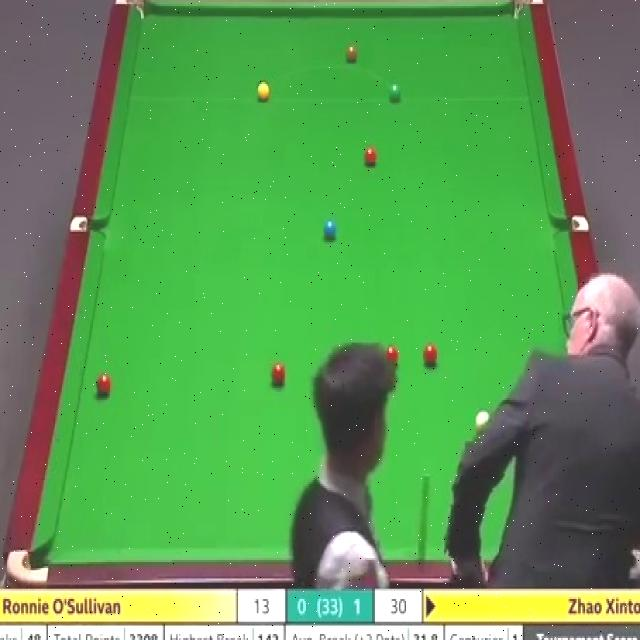blue-ball: (321, 218, 338, 240)
brown-ball: (345, 42, 357, 62)
green-ball: (388, 80, 402, 102)
red-ball: (95, 371, 111, 398), (270, 362, 286, 388), (424, 342, 438, 368), (364, 145, 378, 169), (386, 343, 400, 365)
white-ball: (475, 411, 491, 431)
yellow-ball: (257, 82, 270, 102)
